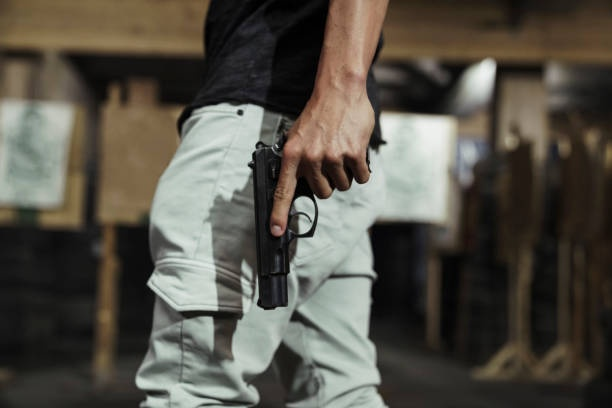gun: (250, 118, 375, 327)
